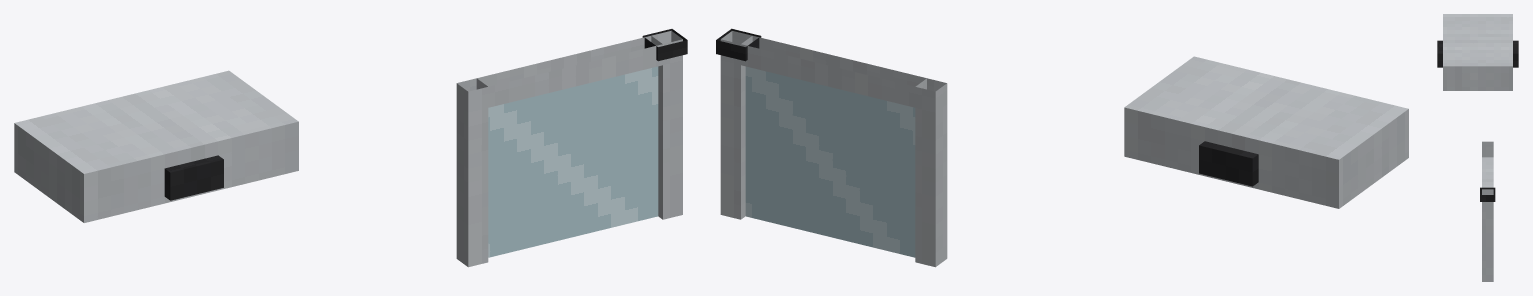
Rendered from auto_door_tele_slider_clear_c1_upper_right_open.obj.
3 renders of one model, left to right at view 1: azimuth 30°, elevation 25°; view 2: azimuth 150°, elevation 25°; view 3: azimuth 270°, elevation 25°, orthographic. The views are drawn at different scales.
Visible parts, largest first — view 1: auto_door_tele_slider_clear_c1_upper_right_open; view 2: auto_door_tele_slider_clear_c1_upper_right_open; view 3: auto_door_tele_slider_clear_c1_upper_right_open.
Boxes of the visible parts, x1,y1,x2,y2 form: auto_door_tele_slider_clear_c1_upper_right_open: (14,29,687,267); auto_door_tele_slider_clear_c1_upper_right_open: (716,28,1408,267); auto_door_tele_slider_clear_c1_upper_right_open: (1437,14,1518,281).
Size of the model in its own units: 2.98 by 1 by 0.6562.
